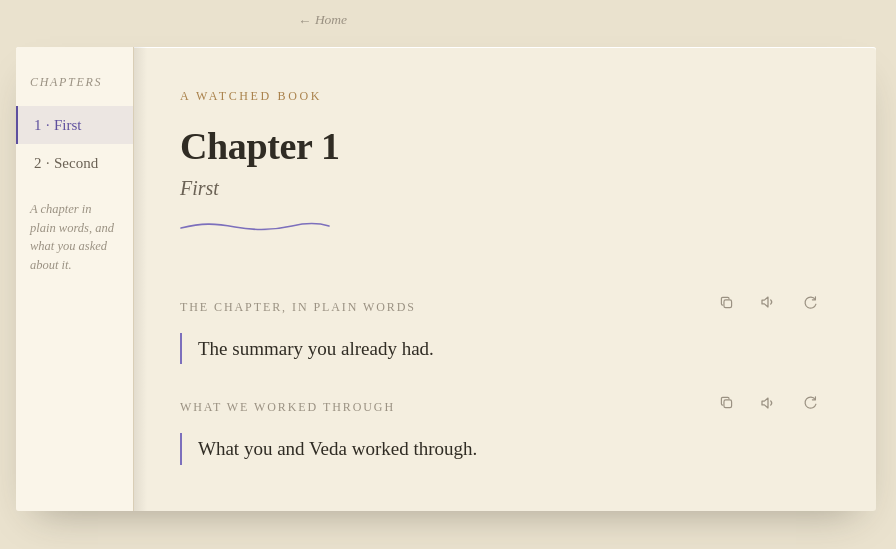
watching a summary being written › rewrites the conversation summary on its own, keeping the recap
What coordinates should you click on to do the following:
click the button named "Redo the conversation summary"
I would click on:
 (810, 403)
Its box is [790,383,830,423].
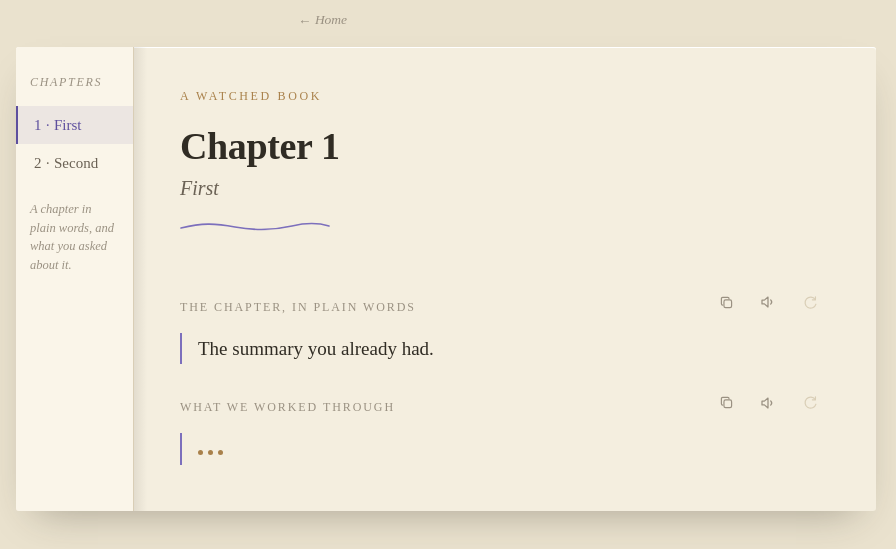
Check: the text "The summary you already had." is shown, box [198,338,434,359]
Check: the element named "Veda is reading the chapter" is shown, box [180,434,830,465]
